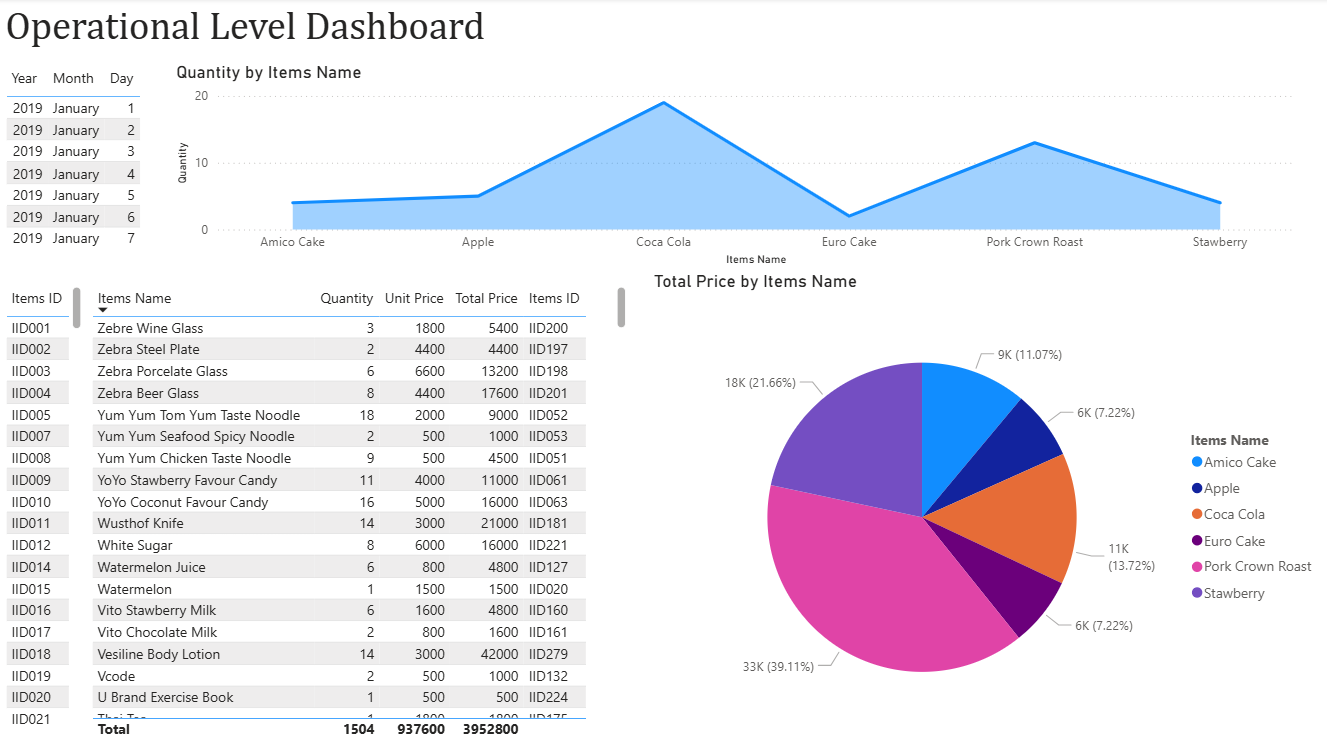

Layout of this report page (visuals, bound fields, positions):
{"tool":"powerbi","page":{"name":"Operational","canvas":[1280,720],"ordinal":0},"visuals":[{"type":"tableEx","fields":{"Values":["Sale.Date.Variation.Date Hierarchy.Year","Sale.Date.Variation.Date Hierarchy.Month","Sale.Date.Variation.Date Hierarchy.Day"]},"box":[0,61.1,142.6,213],"z":0},{"type":"tableEx","fields":{"Values":["Sale.Items ID"]},"box":[0,274.2,83.4,433.5],"z":1000},{"type":"areaChart","fields":{"Y":["Sum(Sale.Quantity)"],"Category":["Items.Items Name","Sale.Date.Variation.Date Hierarchy.Day"]},"box":[164.9,61.1,1089.2,201.9],"z":2000},{"type":"pieChart","fields":{"Y":["Sum(Sale.Total Price)"],"Series":["Items.Items Name"]},"box":[626.1,263,653.9,457.5],"z":3000},{"type":"textbox","box":[0,0,502,61.1],"z":4000},{"type":"tableEx","fields":{"Values":["Items.Items Name","Sum(Sale.Quantity)","Sum(Sale.Unit Price)","Sum(Sale.Total Price)","Items.Items ID"]},"box":[83.4,274.2,526.1,446.4],"z":5000}]}

Visuals, with their boxes in screenshot pixels (x1, y1, x2, y2), scaled from the page's 1280x720 canvas onto the 1327x744 screenshot:
tableEx - Sale.Date.Variation.Date Hierarchy.Year x Sale.Date.Variation.Date Hierarchy.Month: <region>0, 63, 148, 283</region>
tableEx - Sale.Items ID: <region>0, 283, 86, 731</region>
areaChart - Sum(Sale.Quantity) x Items.Items Name: <region>171, 63, 1300, 272</region>
pieChart - Sum(Sale.Total Price) x Items.Items Name: <region>649, 272, 1326, 743</region>
textbox: <region>0, 0, 520, 63</region>
tableEx - Items.Items Name x Sum(Sale.Quantity): <region>86, 283, 632, 743</region>
